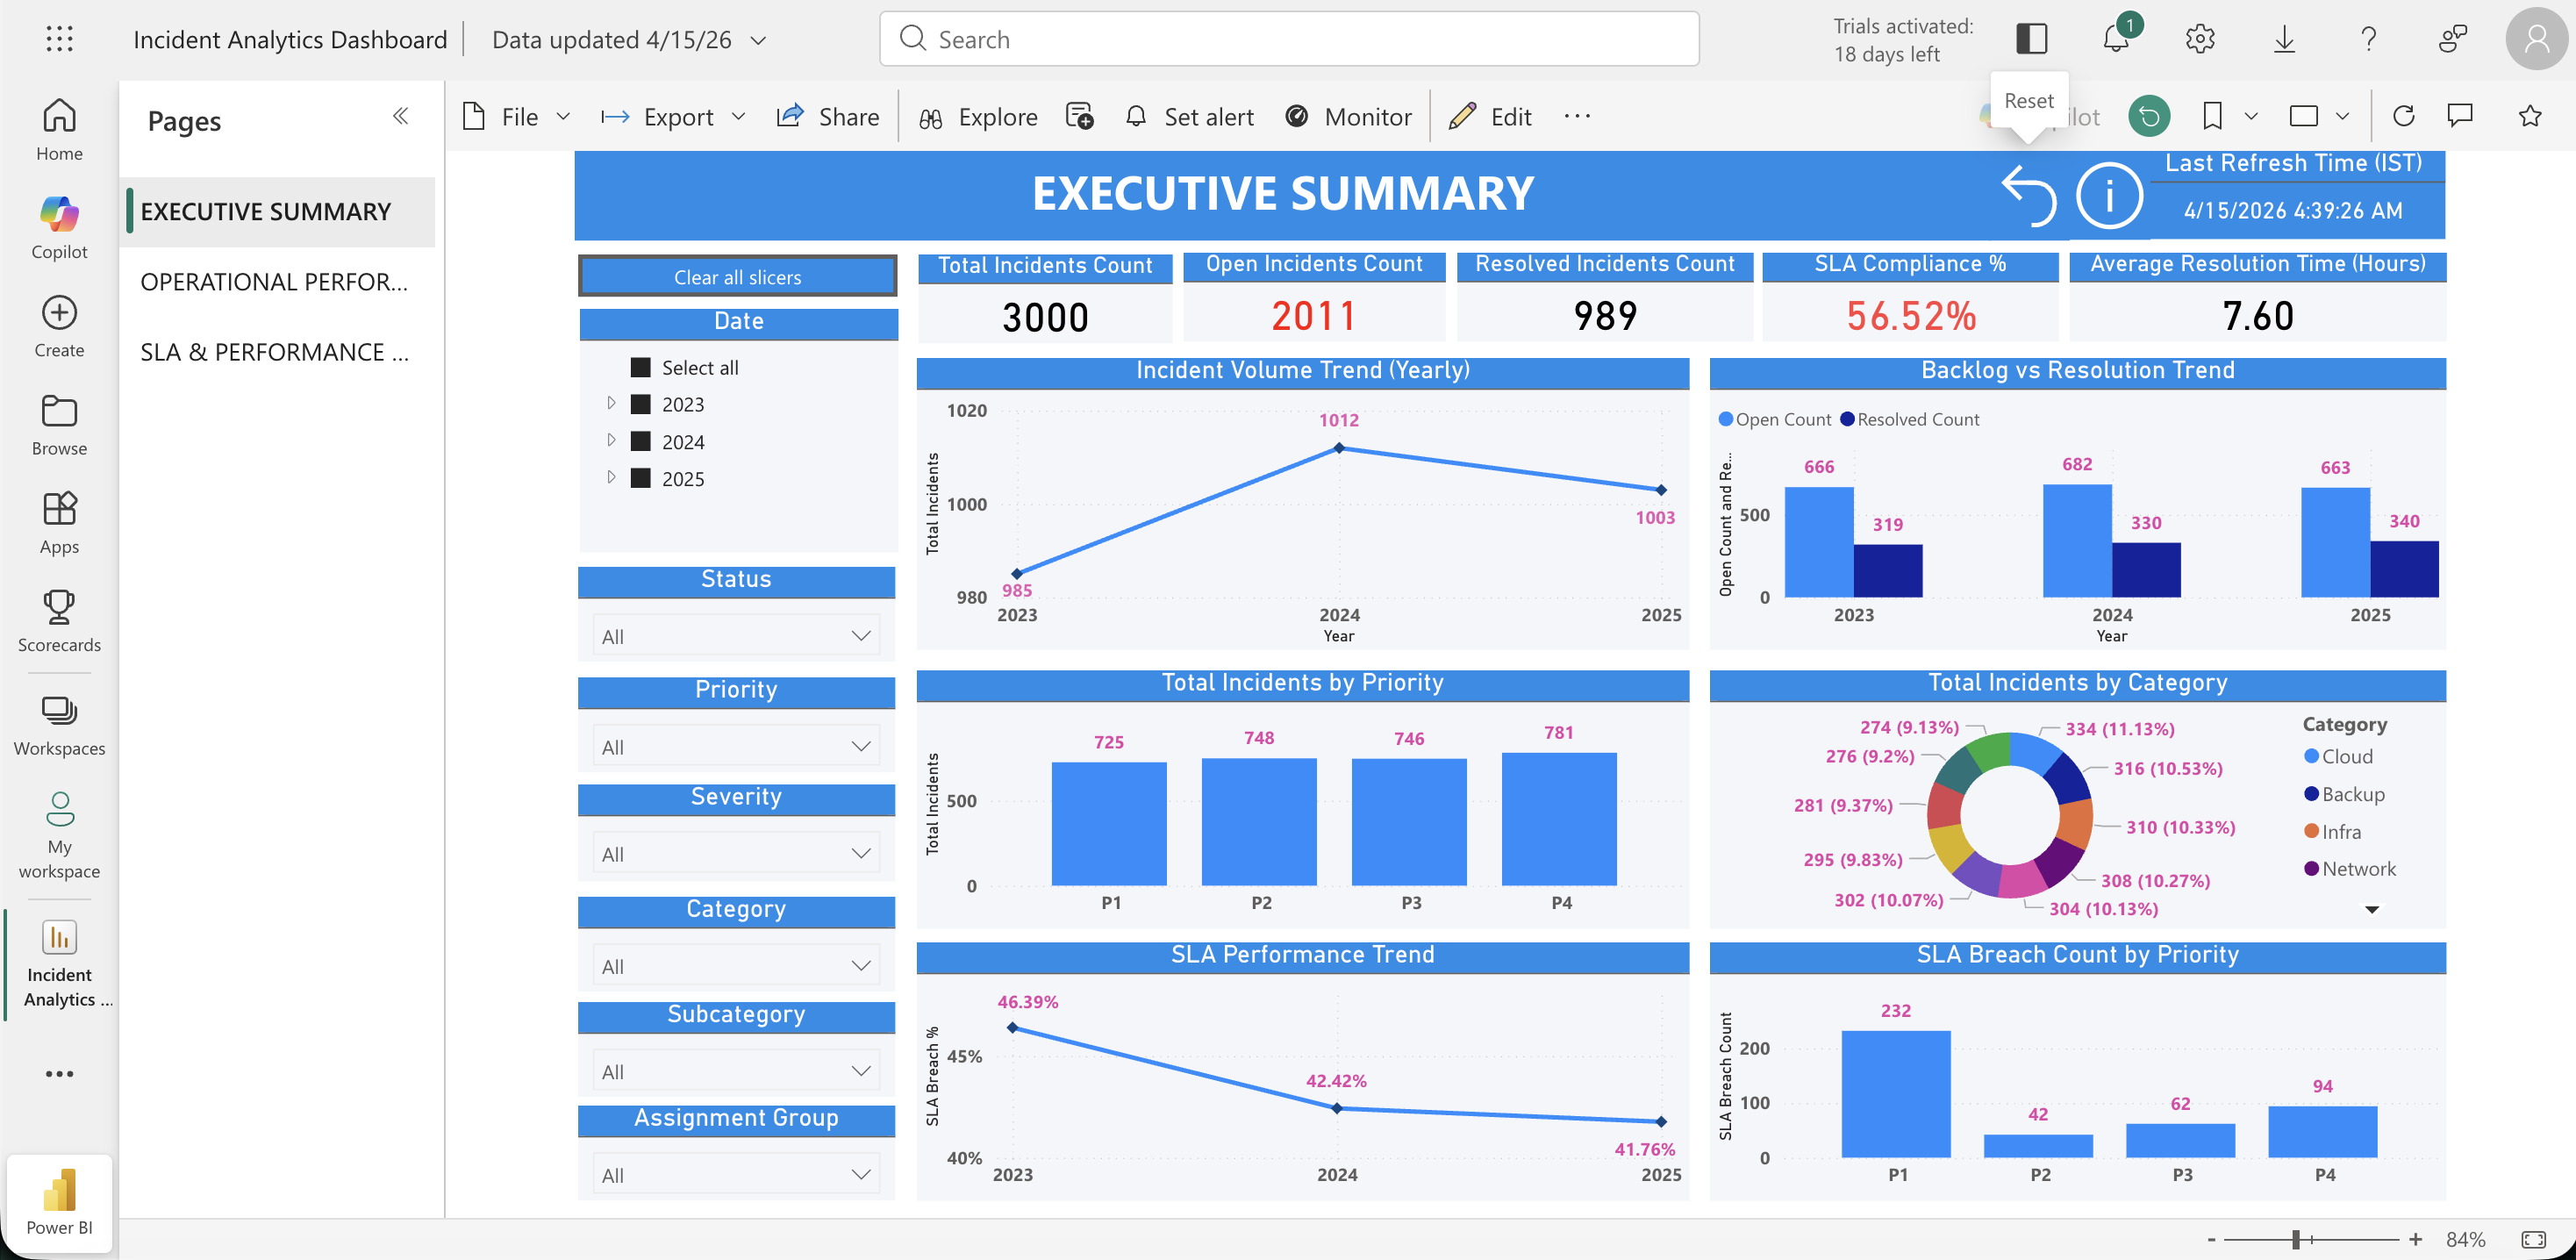

The page's visual inventory and layout, read from the dashboard file:
{"tool":"powerbi","page":{"name":"EXECUTIVE SUMMARY","canvas":[1280,720],"ordinal":0},"visuals":[{"type":"textbox","box":[7.2,0,956.2,60.5],"z":0,"group":"g2"},{"type":"group","id":"g1","title":"Executive Summary Card Group","box":[239.2,69.2,1031.2,61.4],"z":0},{"type":"card","title":"Total Incidents Count","fields":{"Values":["Measure.Total Incidents"]},"box":[239.2,70.6,171.4,60],"z":0,"group":"g1"},{"type":"slicer","title":"Status","fields":{"Values":["Dim_Status.Status"]},"box":[10.2,280.7,213.8,64],"z":0,"group":"g3"},{"type":"card","title":"Last Refresh Time (IST)","fields":{"Values":["Min(Last Refresh Time (IST).Last Refresh Time (IST))"]},"box":[1064.9,0,205.1,59.6],"z":1000,"group":"g2"},{"type":"card","title":"Open Incidents Count","fields":{"Values":["Measure.Open Count"]},"box":[417.5,69.2,177.1,60],"z":1000,"group":"g1"},{"type":"lineChart","title":"Incident Volume Trend (Yearly)","fields":{"Y":["Measure.Total Incidents"],"Category":["Dim_Date.Date Hierarchy.Year","Dim_Date.Date Hierarchy.Quater","Dim_Date.Date Hierarchy.Month","Dim_Date.Date Hierarchy.Day"]},"box":[238.6,140,521.4,197.1],"z":1000},{"type":"slicer","title":"Priority","fields":{"Values":["Dim_Priority.Priority"]},"box":[10.2,354.9,213.8,64],"z":1000,"group":"g3"},{"type":"shape","box":[1059.4,0,20.4,59.6],"z":2000,"group":"g2"},{"type":"card","title":"Resolved Incidents Count","fields":{"Values":["Measure.Resolved Count"]},"box":[603.2,69.2,200,60],"z":2000,"group":"g1"},{"type":"slicer","title":"Severity","fields":{"Values":["Dim_Severity.Severity"]},"box":[10.2,427.6,213.8,65.5],"z":2000,"group":"g3"},{"type":"clusteredColumnChart","title":"SLA Breach Count by Priority","fields":{"Y":["Measure.SLA Breach Count"],"Category":["Dim_Priority.Priority"]},"box":[772.9,534.3,497.1,174.3],"z":2000},{"type":"actionButton","box":[1016.4,0,54.3,60],"z":3000,"group":"g2"},{"type":"card","title":"SLA Compliance %","fields":{"Values":["Measure.SLA Complaince %"]},"box":[808.9,69.2,200,60],"z":3000,"group":"g1"},{"type":"clusteredColumnChart","title":"Backlog vs Resolution Trend","fields":{"Category":["Dim_Date.Date Hierarchy.Year","Dim_Date.Date Hierarchy.Quater","Dim_Date.Date Hierarchy.Month","Dim_Date.Date Hierarchy.Day"],"Y":["Measure.Open Count","Measure.Resolved Count"]},"box":[772.9,140,497.1,197.1],"z":3000},{"type":"slicer","title":"Category","fields":{"Values":["Dim_Category.Category"]},"box":[10.2,503.3,213.8,64],"z":3000,"group":"g3"},{"type":"card","title":"Average Resolution Time (Hours)","fields":{"Values":["Measure.Average Resolution Time (Hours)"]},"box":[1016.1,69.2,254.3,60],"z":4000,"group":"g1"},{"type":"clusteredColumnChart","fields":{"Category":["Dim_Priority.Priority"],"Y":["Measure.Total Incidents"]},"box":[238.6,350,521.4,174.3],"z":4000},{"type":"slicer","title":"Subcategory","fields":{"Values":["Dim_Subcategory.Subcategory"]},"box":[10.2,574.5,213.8,64],"z":4000,"group":"g3"},{"type":"donutChart","fields":{"Y":["Measure.Total Incidents"],"Category":["Dim_Category.Category"]},"box":[772.9,350,497.1,174.3],"z":5000},{"type":"slicer","title":"Assignment Group","fields":{"Values":["Dim_Assigned_Group.Assigned_Group"]},"box":[10.2,644.4,213.8,64],"z":5000,"group":"g3"},{"type":"slicer","title":"Date","fields":{"Values":["Dim_Date.Date Hierarchy.Year","Dim_Date.Date Hierarchy.Quater","Dim_Date.Date Hierarchy.Month","Dim_Date.Date Hierarchy.Day"]},"box":[10.7,106.7,215.1,164.5],"z":6000,"group":"g3"},{"type":"lineChart","title":"SLA Performance Trend","fields":{"Category":["Dim_Date.Date Hierarchy.Year","Dim_Date.Date Hierarchy.Quater","Dim_Date.Date Hierarchy.Month","Dim_Date.Date Hierarchy.Day"],"Y":["Measure.SLA Breach %"]},"box":[238.6,534.3,521.4,174.3],"z":6000},{"type":"group","id":"g2","title":"ES Top Bar","box":[7.2,0,1262.9,60.5],"z":7000},{"type":"actionButton","box":[10,70,215.7,28.6],"z":7000,"group":"g3"},{"type":"group","id":"g3","title":"Slicer Group","box":[10,70,215.8,638.4],"z":8000},{"type":"actionButton","box":[961.9,0,54.7,60.5],"z":9000}]}

Visuals, with their boxes on the page's 1280x720 design canvas (x1, y1, x2, y2). These are canvas units, not pixel positions in the 2576x1260 screenshot, which may show the page scaled, cropped or inside an application window:
textbox: (7,0,963,60)
"Executive Summary Card Group" group: (239,69,1270,131)
"Total Incidents Count" card: (239,71,411,131)
"Status" slicer: (10,281,224,345)
"Last Refresh Time (IST)" card: (1065,0,1270,60)
"Open Incidents Count" card: (418,69,595,129)
"Incident Volume Trend (Yearly)" lineChart: (239,140,760,337)
"Priority" slicer: (10,355,224,419)
shape: (1059,0,1080,60)
"Resolved Incidents Count" card: (603,69,803,129)
"Severity" slicer: (10,428,224,493)
"SLA Breach Count by Priority" clusteredColumnChart: (773,534,1270,709)
actionButton: (1016,0,1071,60)
"SLA Compliance %" card: (809,69,1009,129)
"Backlog vs Resolution Trend" clusteredColumnChart: (773,140,1270,337)
"Category" slicer: (10,503,224,567)
"Average Resolution Time (Hours)" card: (1016,69,1270,129)
clusteredColumnChart - Dim_Priority.Priority x Measure.Total Incidents: (239,350,760,524)
"Subcategory" slicer: (10,574,224,638)
donutChart - Measure.Total Incidents x Dim_Category.Category: (773,350,1270,524)
"Assignment Group" slicer: (10,644,224,708)
"Date" slicer: (11,107,226,271)
"SLA Performance Trend" lineChart: (239,534,760,709)
"ES Top Bar" group: (7,0,1270,60)
actionButton: (10,70,226,99)
"Slicer Group" group: (10,70,226,708)
actionButton: (962,0,1017,60)
